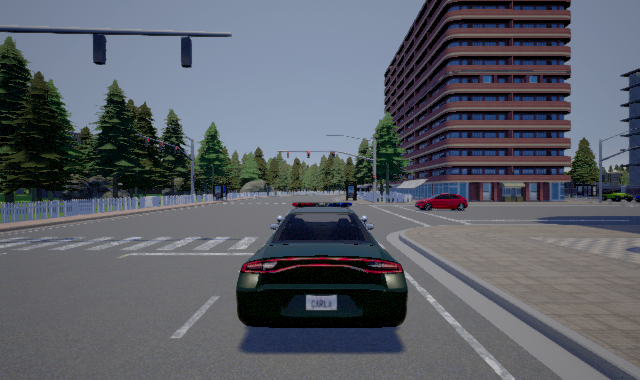traffic_light: (159, 142, 164, 151), (145, 138, 150, 147), (174, 146, 178, 154), (332, 151, 335, 158), (307, 151, 310, 158), (373, 175, 375, 182), (287, 151, 289, 158)
vehicle: (236, 202, 408, 328), (415, 193, 468, 211), (602, 189, 633, 202)
